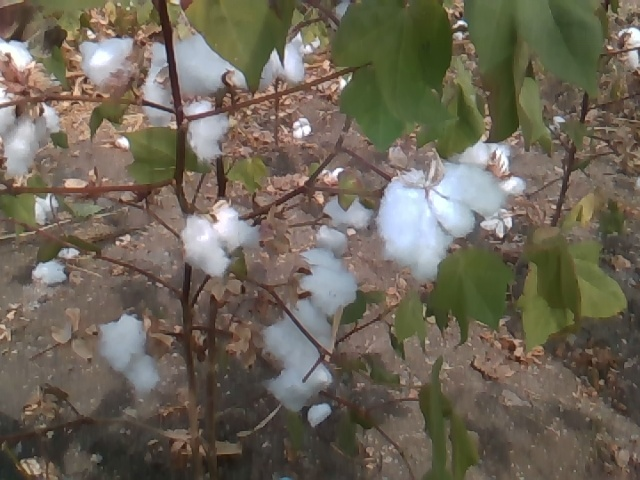cotton: (373, 161, 507, 277), (144, 26, 300, 123), (250, 305, 347, 424), (1, 50, 55, 178), (187, 196, 265, 281), (93, 313, 168, 397), (443, 135, 525, 203), (291, 250, 365, 320), (306, 193, 380, 263), (74, 38, 144, 104), (183, 98, 232, 167), (29, 242, 93, 291), (17, 187, 65, 230), (608, 20, 640, 72), (285, 117, 319, 144)
